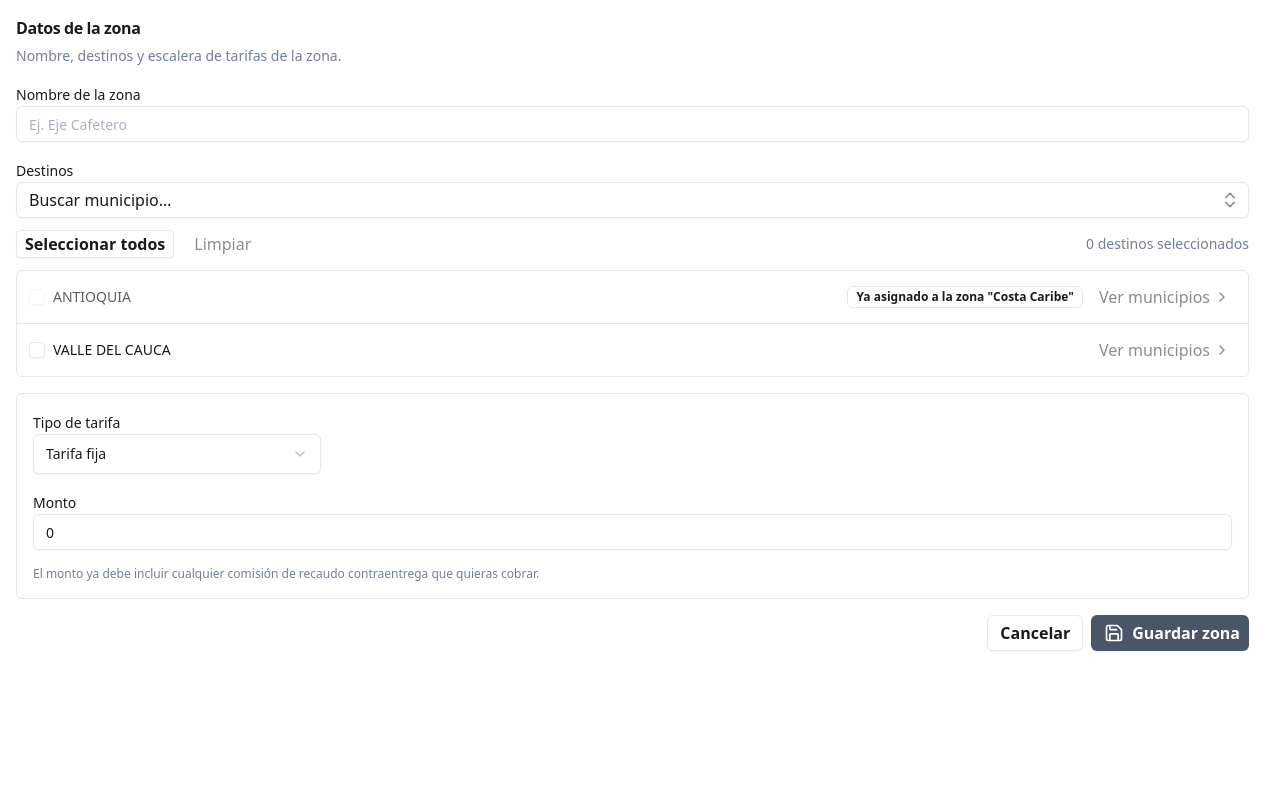
Test: ZoneForm destinations picker › skips a department already claimed whole by another zone when 'Seleccionar todos' runs
This screenshot has width=1280, height=800.
Click the button "Seleccionar todos". click: (95, 244)
box: [16,230,174,258]
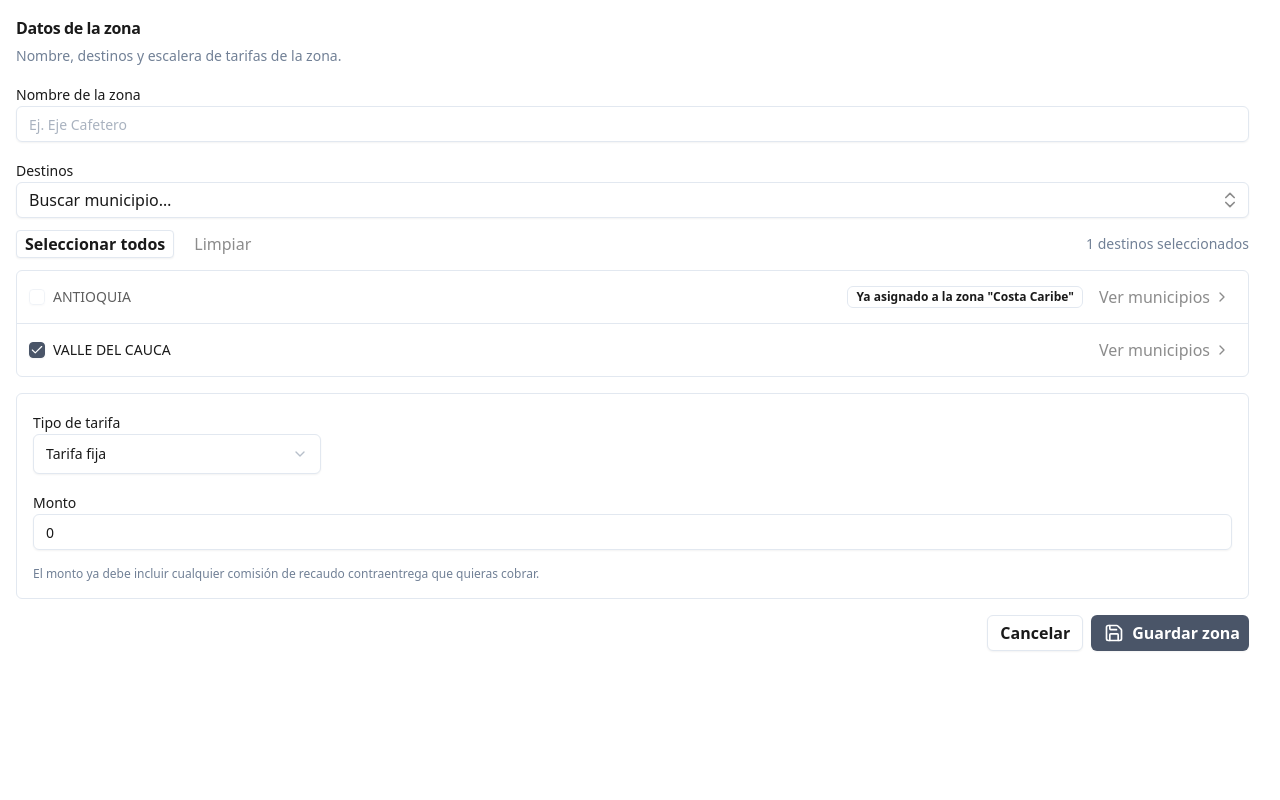
Now the checkbox named "VALLE DEL CAUCA" next to "VALLE DEL CAUCA" is checked, box [29,342,45,358]
